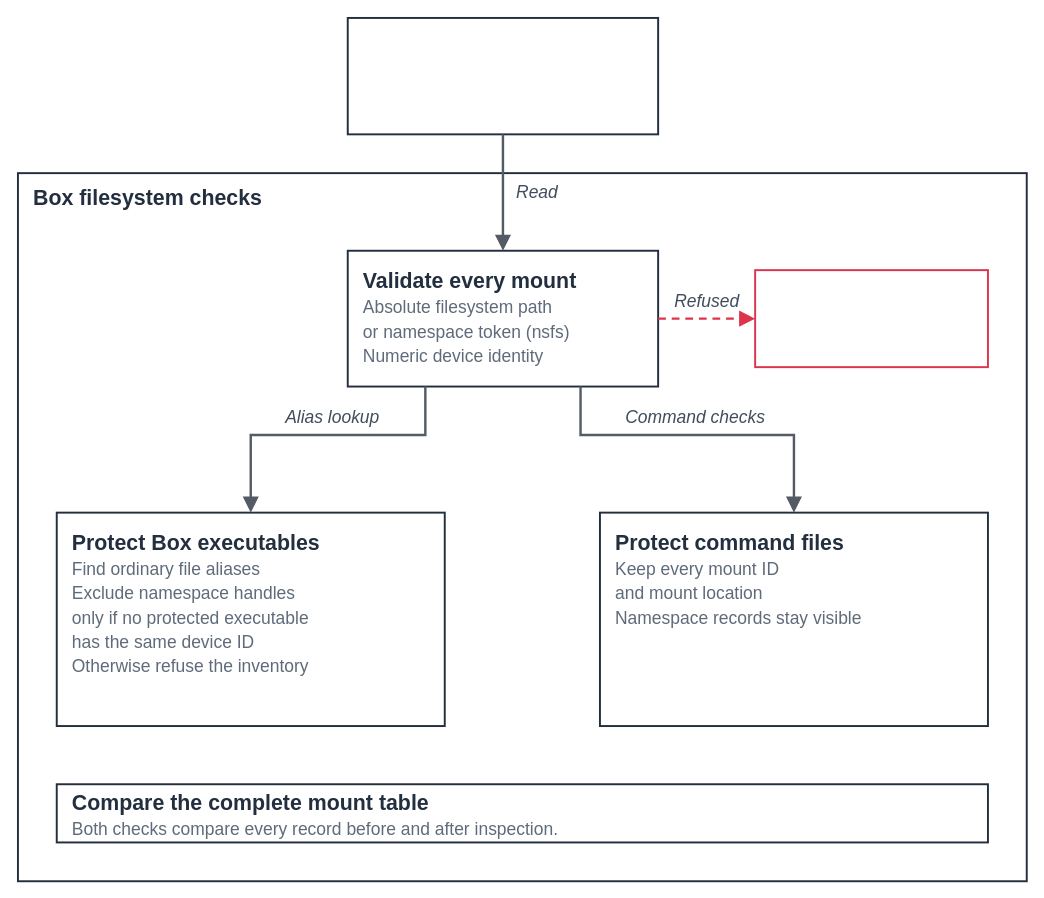
The diagram is 1044 pixels wide and 898 high, and some of its shapes have lost their labels. Here are the shapes that lost their labels. From the top down, the centre of each, then its label:
At (502,75): "Linux mount table Filesystem paths and namespace resource handles".
At (871,318): "Malformed record Refuse the inventory".
